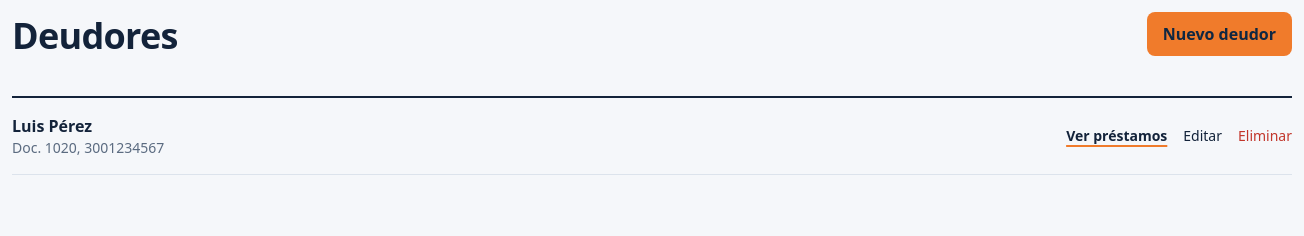
Test: borrower delete error is shown
Click the button with aria-label "Eliminar a Luis Pérez" at (1265, 136), box [1238,126,1292,146]
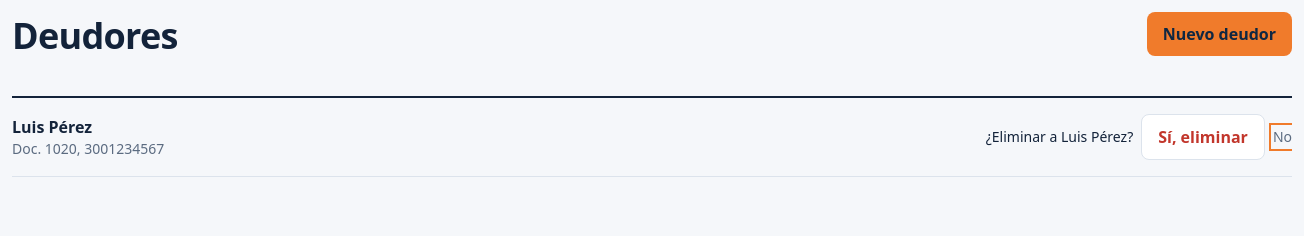
Click the button "Sí, eliminar" at (1203, 137), box [1141,114,1265,160]
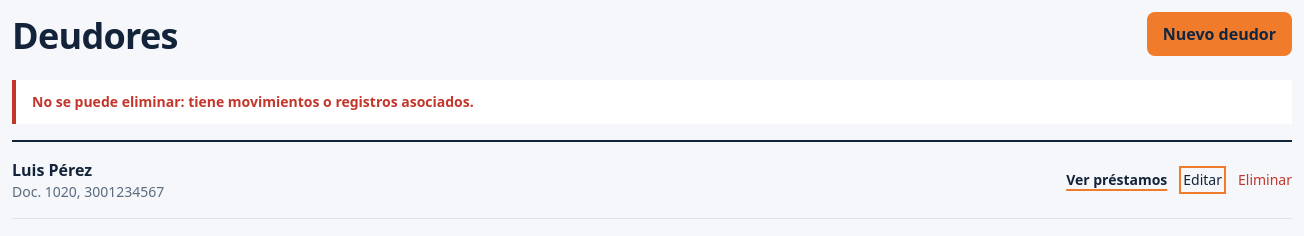
expect the link "Luis Pérez" is shown: met, box [12,159,92,181]
expect the text "No se puede eliminar: tiene movimientos o registros asociados." is shown: met, box [32,92,474,111]
